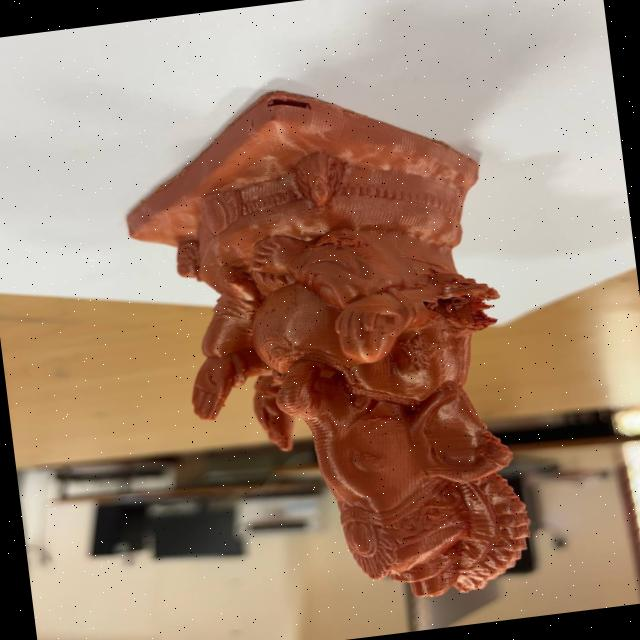cracks: (419, 271, 504, 348), (256, 87, 314, 117)
